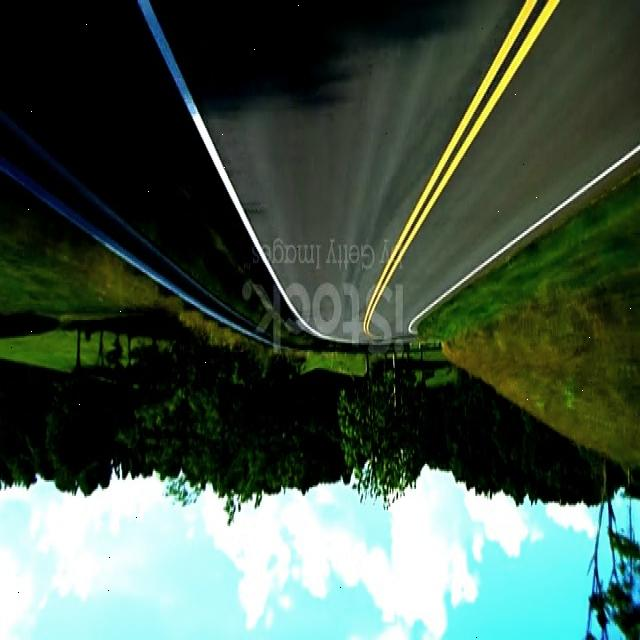lane: (364, 1, 562, 337), (139, 3, 303, 323)
road: (154, 2, 640, 342)
